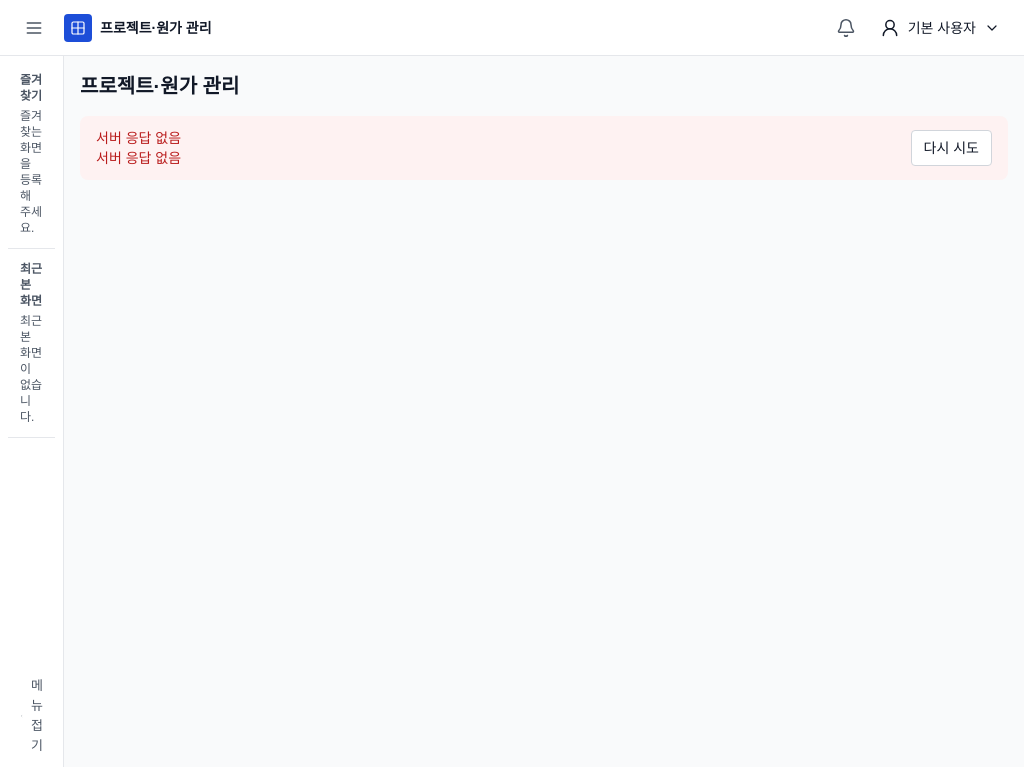
Test: 공유 업무 자리 › 메뉴 연결실패는 임의 번호 없이 표시하며 retry로 실제 목록을 복구한다
Expected: the message shows "서버 응답 없음", [96,130,181,146]
Click the button "다시 시도" at (951, 148), box [911,130,992,166]
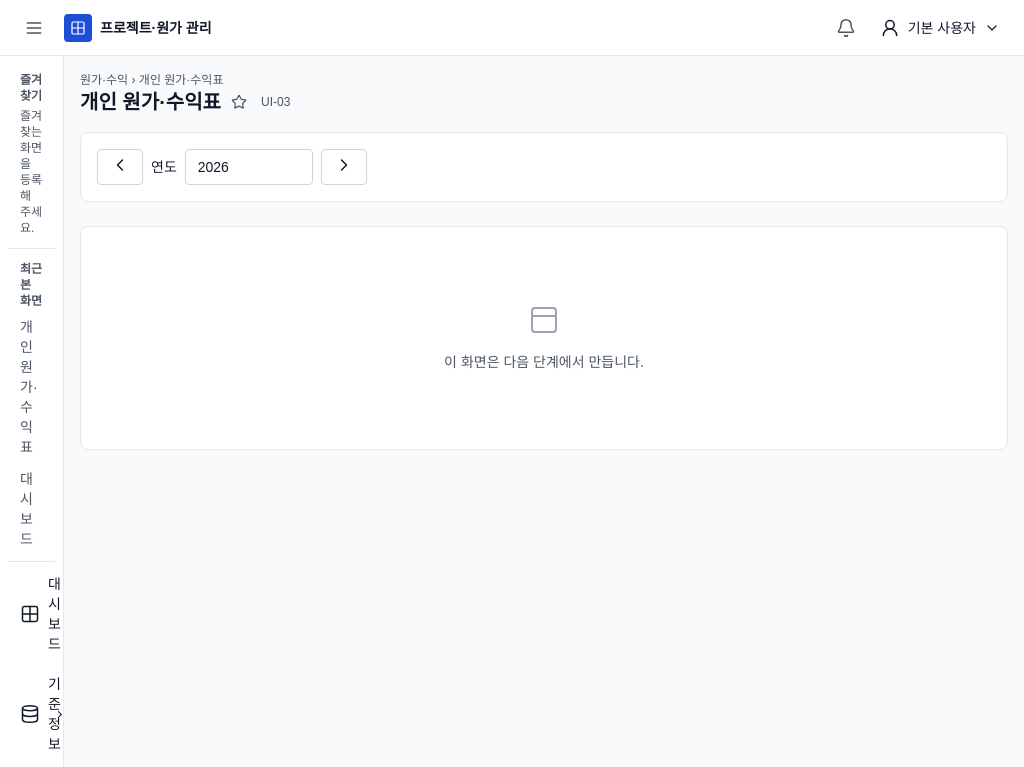
Result: the heading "개인 원가·수익표" is shown at [80,88,221,116]
